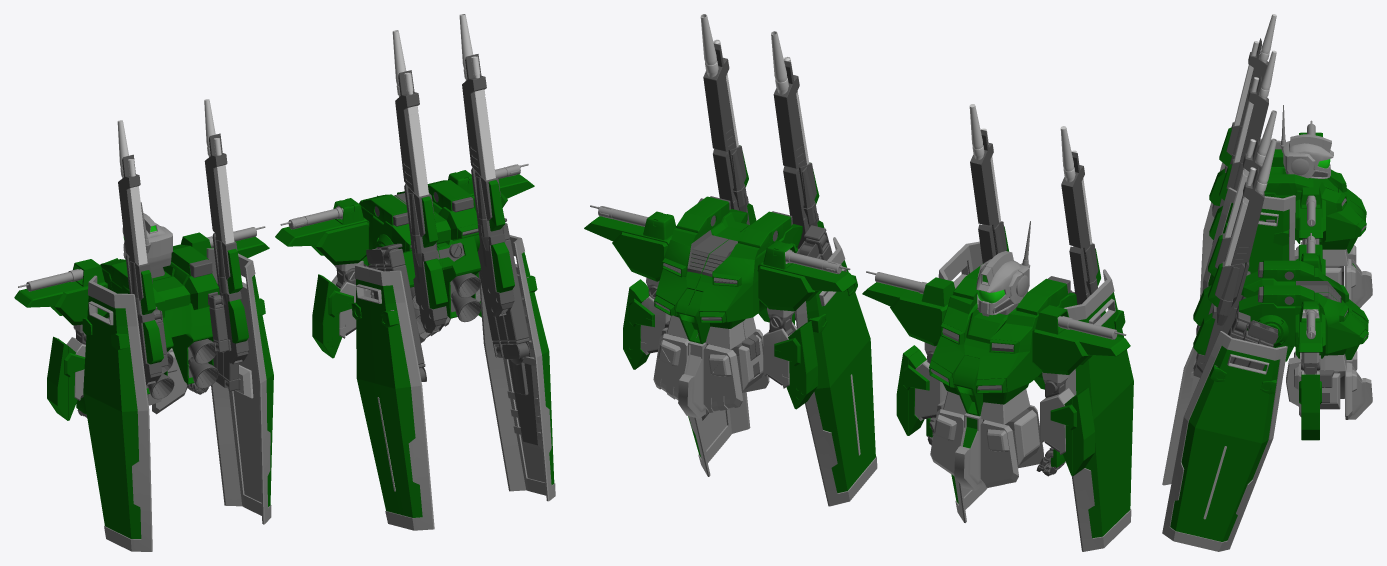
File: Cardigan Update.fbx
The picture shows the model from 3 angles, left to right: view 1: azimuth 30°, elevation 25°; view 2: azimuth 150°, elevation 25°; view 3: azimuth 270°, elevation 25°; orthographic projection. The views are drawn at different scales.
Visible parts, largest first — view 1: polySurface473, Shield_Left, Shield_Right, polySurface417, polySurface522, polySurface466, polySurface467, polySurface334, Cannon_Right, Cannon_Left, polySurface497, polySurface274 (+4 smaller); view 2: polySurface522, polySurface417, polySurface473, Shield_Left, polySurface334, polySurface467, polySurface466, Cannon_Left, Cannon_Right, polySurface274, pasted__polySurface19, polySurface201 (+14 smaller); view 3: polySurface473, polySurface522, polySurface466, polySurface417, polySurface334, Shield_Right, Cannon_Right, polySurface467, Cannon_Left, pasted__polySurface19, polySurface497, polySurface201 (+6 smaller).
Part boxes in pixels (left/top/right/bottom): polySurface473: left=351, top=235, right=555, bottom=530; Shield_Left: left=82, top=275, right=152, bottom=551; Shield_Right: left=206, top=248, right=273, bottom=524; polySurface417: left=275, top=164, right=534, bottom=358; polySurface522: left=359, top=180, right=481, bottom=342; polySurface466: left=459, top=14, right=514, bottom=316; polySurface467: left=392, top=30, right=447, bottom=333; polySurface334: left=100, top=244, right=219, bottom=394; Cannon_Right: left=204, top=99, right=248, bottom=364; Cannon_Left: left=117, top=120, right=163, bottom=385; polySurface497: left=366, top=218, right=530, bottom=381; polySurface274: left=14, top=281, right=107, bottom=325; polySurface522: left=653, top=196, right=802, bottom=418; polySurface417: left=584, top=205, right=856, bottom=409; polySurface473: left=688, top=237, right=877, bottom=506; Shield_Left: left=1064, top=269, right=1133, bottom=551; polySurface334: left=929, top=263, right=1077, bottom=416; polySurface467: left=771, top=31, right=824, bottom=249; polySurface466: left=700, top=14, right=756, bottom=224; Cannon_Left: left=1060, top=126, right=1105, bottom=321; Cannon_Right: left=969, top=104, right=1008, bottom=263; polySurface274: left=1032, top=329, right=1130, bottom=374; pasted__polySurface19: left=976, top=221, right=1030, bottom=316; polySurface201: left=862, top=282, right=948, bottom=346; polySurface473: left=1162, top=331, right=1287, bottom=551; polySurface522: left=1239, top=260, right=1372, bottom=419; polySurface466: left=1193, top=138, right=1276, bottom=372; polySurface417: left=1295, top=233, right=1325, bottom=440; polySurface334: left=1264, top=149, right=1366, bottom=253; Shield_Right: left=1202, top=187, right=1295, bottom=291; Cannon_Right: left=1209, top=50, right=1276, bottom=244; polySurface467: left=1193, top=110, right=1276, bottom=334; Cannon_Left: left=1209, top=14, right=1276, bottom=217; pasted__polySurface19: left=1280, top=105, right=1333, bottom=178; polySurface497: left=1193, top=271, right=1278, bottom=377; polySurface201: left=1296, top=199, right=1325, bottom=243.
Size of the model in its own units: 59.37 by 51.56 by 24.53.
